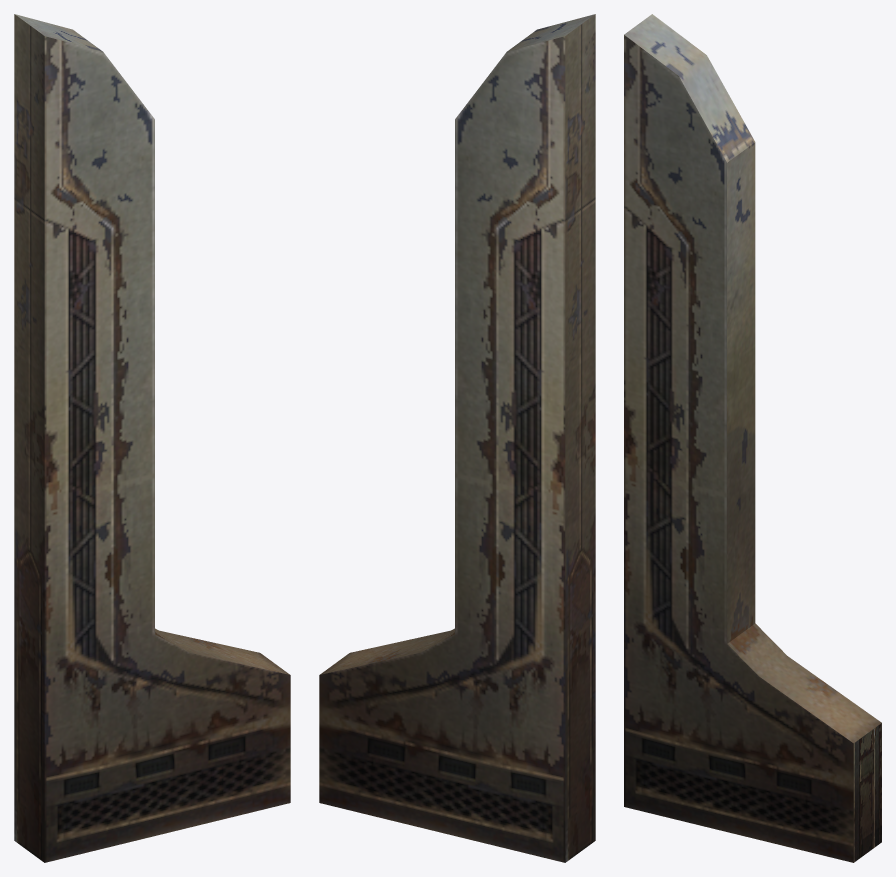
File: leinabaobianyuan_ta03.FBX
3 views of the same model, side by side, from view 1: azimuth 30°, elevation 25°; view 2: azimuth 150°, elevation 25°; view 3: azimuth 330°, elevation 25° (orthographic). The views are drawn at different scales.
Parts seen in each view (by area): view 1: leinabaobianyuan_ta03; view 2: leinabaobianyuan_ta03; view 3: leinabaobianyuan_ta03.
Boxes of the visible parts, x1=… form: leinabaobianyuan_ta03: x1=14, y1=14, x2=290, y2=862; leinabaobianyuan_ta03: x1=319, y1=14, x2=595, y2=862; leinabaobianyuan_ta03: x1=624, y1=14, x2=881, y2=862.
Bounding box in the file's own units: 325 × 1045 × 69.25.
